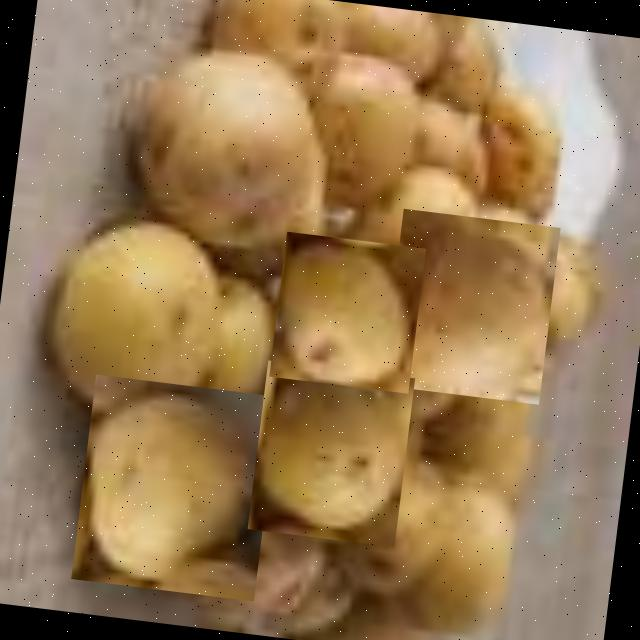Potato: (70, 373, 278, 600), (118, 37, 332, 251), (29, 207, 226, 430), (382, 208, 560, 404), (247, 359, 415, 546), (269, 230, 426, 392)
